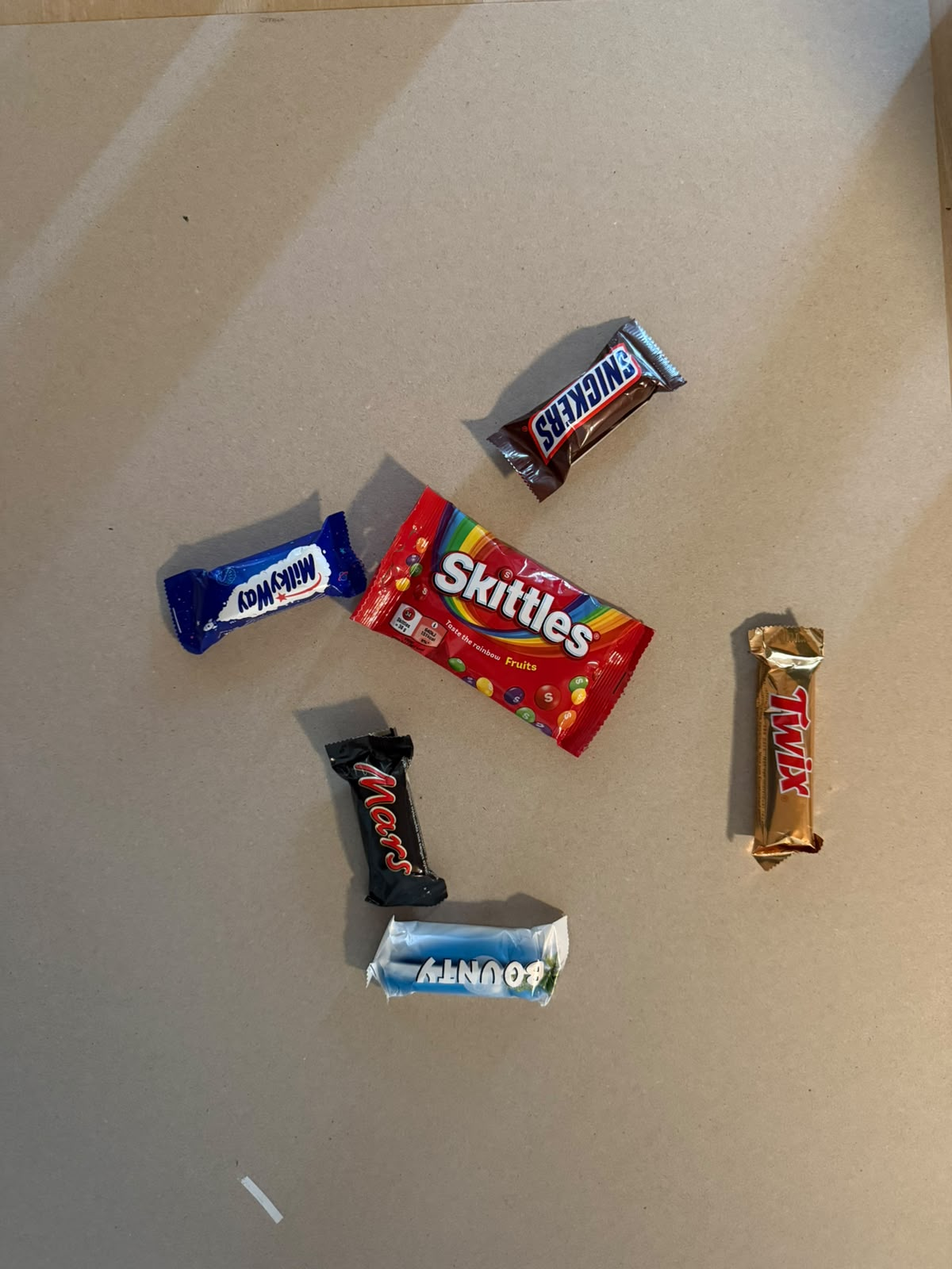Bounty: (372, 914, 591, 1020)
Mars: (300, 746, 430, 925)
MilkyWay: (107, 579, 367, 706)
Skittles: (421, 453, 744, 649)
Snickers: (457, 447, 702, 536)
Twix: (738, 616, 840, 869)
